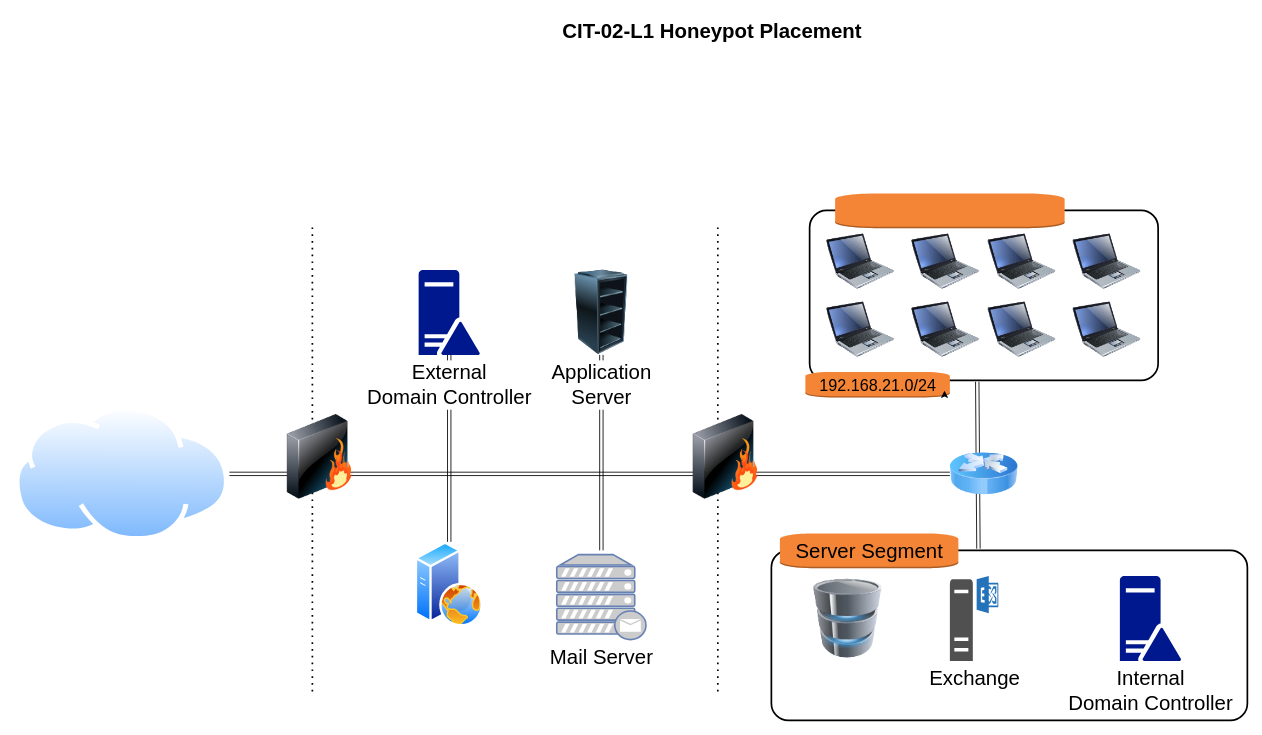
Some shapes in this 1262 by 735 pixel diagram are drawn without their labels. The shapes that lost their labels are listed below. From the top down, each one's centre as x and y in pixels, then its label:
(949,210): Workstation Segment
(449,583): Web Server
(847,617): Database
